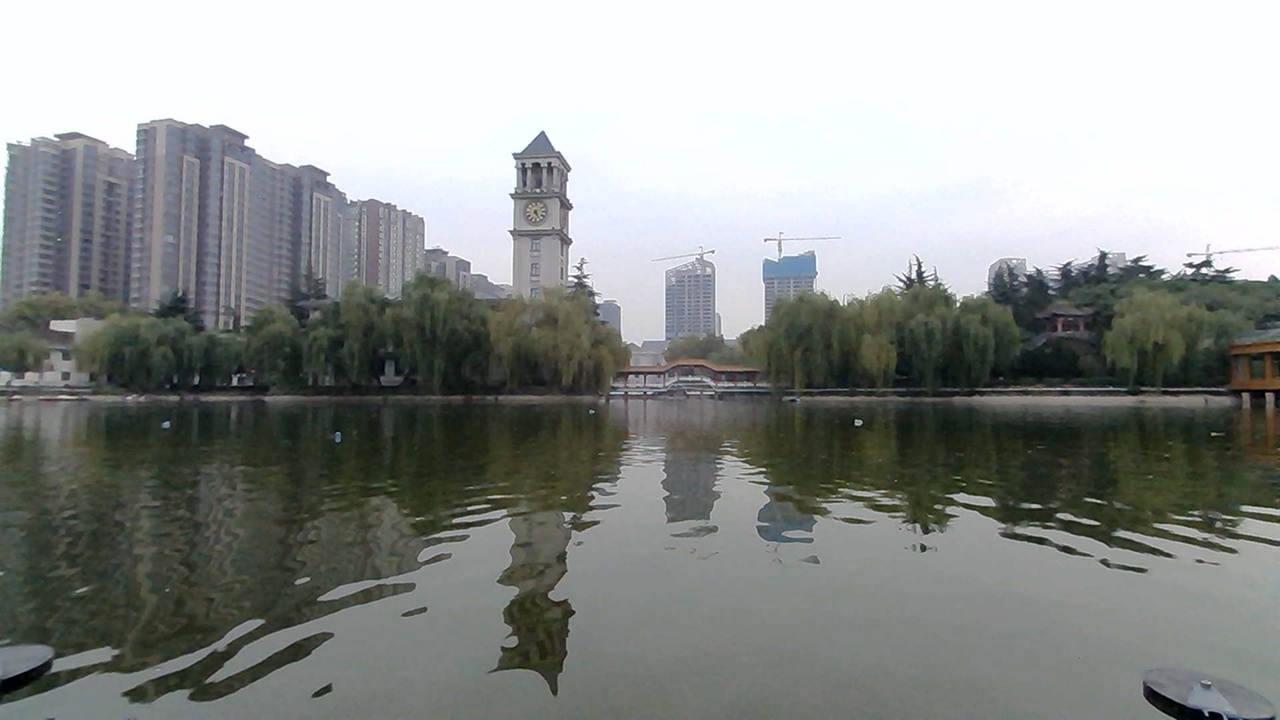bottle: (843, 409, 881, 430), (322, 425, 356, 447), (157, 407, 178, 435)
